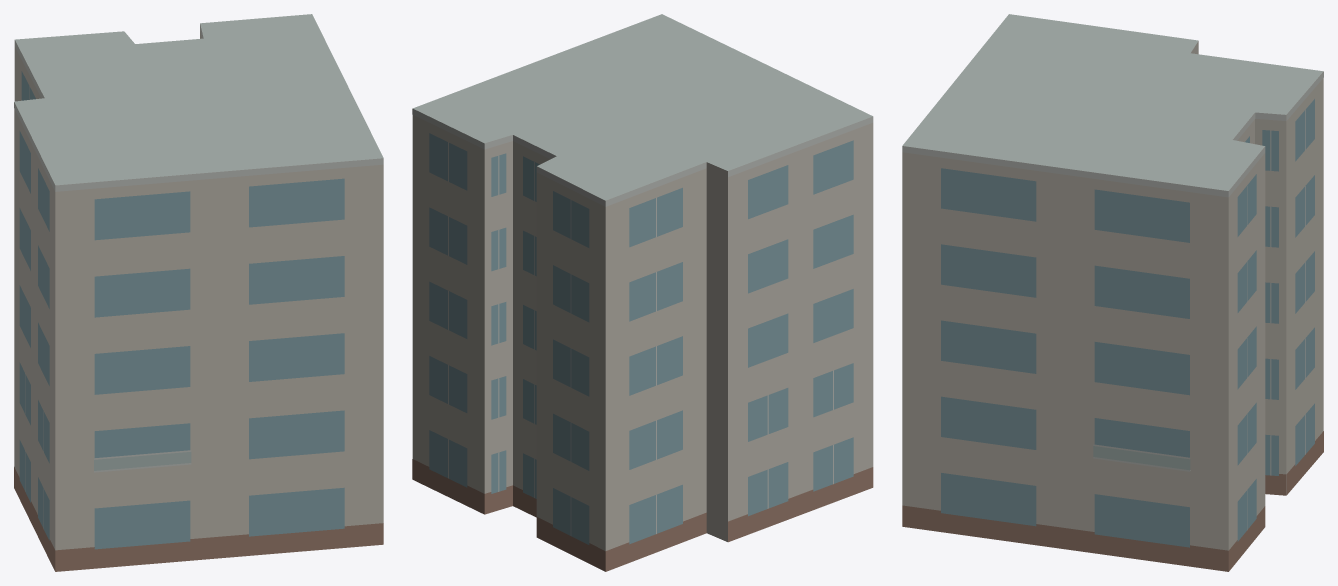
Rendered from survey-upis-32869475.glb.
The picture shows the model from 3 angles, left to right: view 1: azimuth 30°, elevation 25°; view 2: azimuth 150°, elevation 25°; view 3: azimuth 270°, elevation 25°; orthographic projection. The views are drawn at different scales.
Parts seen in each view (by area): view 1: survey-upis-32869475.tmp; view 2: survey-upis-32869475.tmp; view 3: survey-upis-32869475.tmp.
Part boxes in pixels (x1,y1,x2,y2): survey-upis-32869475.tmp: [14, 14, 383, 571]; survey-upis-32869475.tmp: [412, 14, 873, 571]; survey-upis-32869475.tmp: [902, 14, 1323, 571].
Size of the model in its own units: 14.67 by 14.7 by 14.76.
